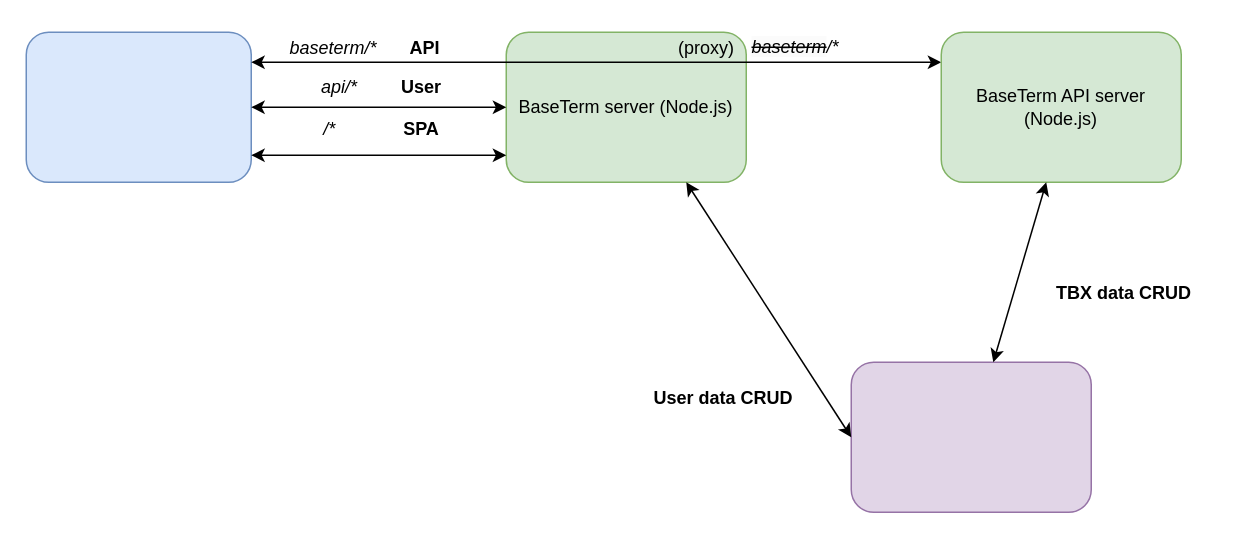
The diagram is 1233 pixels wide and 539 high, and some of its shapes have lost their labels. The shapes that lost their labels are listed below. From the top down, each one's centre as x and y in pixels, then its label:
At [138,106]: "Client (Browser)".
At [970,436]: "DB (PostgreSQL)".
